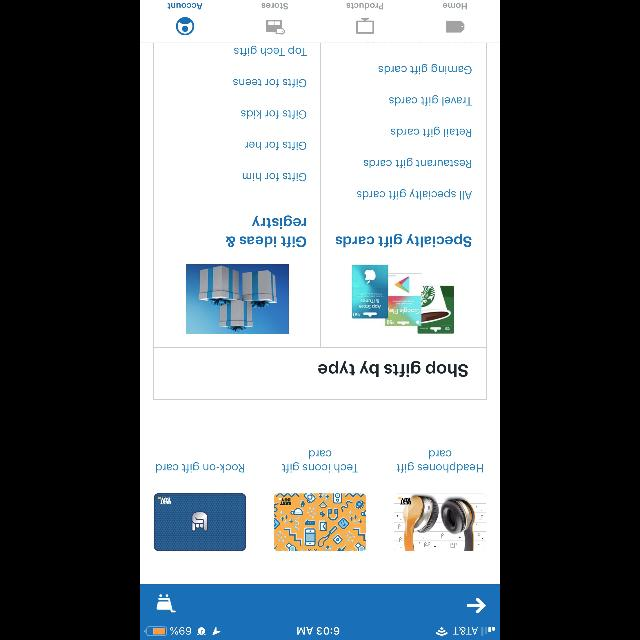icon: (157, 594, 176, 612), (176, 17, 194, 35), (466, 597, 486, 613), (446, 21, 464, 33)
image: (186, 264, 288, 334), (352, 264, 454, 334), (394, 493, 486, 551), (154, 493, 246, 551), (274, 494, 366, 550), (356, 18, 374, 34), (266, 20, 284, 34)
text: (226, 215, 306, 247), (318, 361, 468, 377), (335, 233, 471, 247), (397, 450, 483, 472), (282, 450, 358, 472), (356, 188, 472, 200), (364, 158, 471, 168), (391, 126, 471, 138), (378, 64, 472, 74), (389, 95, 471, 106), (156, 462, 244, 472), (234, 46, 306, 56), (234, 79, 306, 87), (242, 111, 306, 119), (242, 173, 306, 181), (246, 142, 306, 150), (346, 3, 384, 9), (168, 3, 202, 9), (262, 3, 288, 9), (442, 3, 466, 9)
uppertaskbar: (140, 626, 500, 640)
